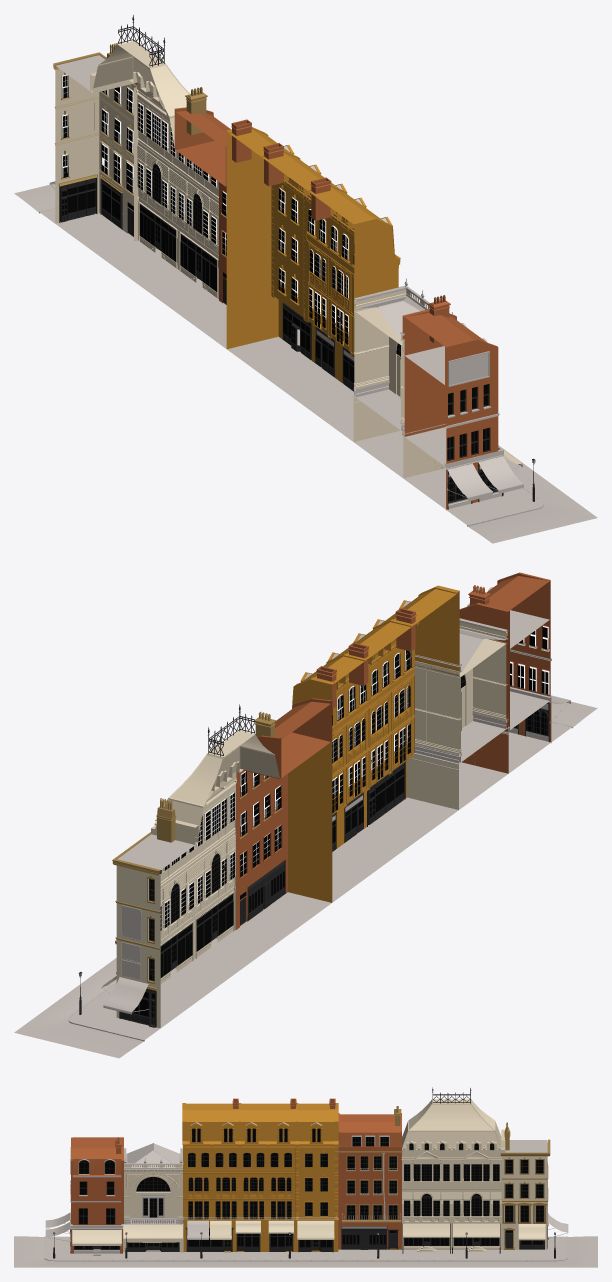
3 views of the same model, one above another, from view 1: azimuth 30°, elevation 25°; view 2: azimuth 150°, elevation 25°; view 3: azimuth 270°, elevation 25° (orthographic). The views are drawn at different scales.
Visible parts, largest first — view 1: cityBlock_06, cityBlock_06_Sidewalk, cityBlock_06_BLDG_E_Windows_Glass, cityBlock_06_Road, cityBlock_06_BLDG_C_Windows_Glass, cityBlock_06_BLDG_E_Roof, cityBlock_06_BLDG_F_Windows_Glass, cityBlock_06_BLDG_C_Chimney, cityBlock_06_BLDG_F_Frames, cityBlock_06_BLDG_E_Frames, cityBlock_06_BLDG_C_Frames, cityBlock_06_BLDG_A_Windows_Glass (+3 smaller); view 2: cityBlock_06, cityBlock_06_Sidewalk, cityBlock_06_Road, cityBlock_06_BLDG_C_Windows_Glass, cityBlock_06_BLDG_E_Windows_Glass, cityBlock_06_BLDG_E_Roof, cityBlock_06_BLDG_D_Windows_Glass, cityBlock_06_BLDG_C_Chimney, cityBlock_06_BLDG_C_Frames, cityBlock_06_BLDG_E_Frames, cityBlock_06_BLDG_F_Signs, cityBlock_06_BLDG_D_Frames (+5 smaller); view 3: cityBlock_06, cityBlock_06_Sidewalk, cityBlock_06_Road, cityBlock_06_BLDG_C_Windows_Glass, cityBlock_06_BLDG_C_Frames, cityBlock_06_BLDG_E_Roof, cityBlock_06_BLDG_E_Windows_Glass, cityBlock_06_BLDG_E_Frames, cityBlock_06_BLDG_D_Frames, cityBlock_06_BLDG_D_Windows_Glass, cityBlock_06_BLDG_F_Windows_Glass, cityBlock_06_BLDG_B_Awning (+9 smaller).
Boxes of the visible parts, <box> form: cityBlock_06: <box>49,43,535,509</box>; cityBlock_06_Sidewalk: <box>40,209,542,524</box>; cityBlock_06_BLDG_E_Windows_Glass: <box>138,103,216,291</box>; cityBlock_06_Road: <box>14,168,597,543</box>; cityBlock_06_BLDG_C_Windows_Glass: <box>278,188,354,382</box>; cityBlock_06_BLDG_E_Roof: <box>93,40,190,147</box>; cityBlock_06_BLDG_F_Windows_Glass: <box>62,75,133,220</box>; cityBlock_06_BLDG_C_Chimney: <box>231,119,331,220</box>; cityBlock_06_BLDG_F_Frames: <box>59,126,133,236</box>; cityBlock_06_BLDG_E_Frames: <box>139,120,218,291</box>; cityBlock_06_BLDG_C_Frames: <box>282,277,354,391</box>; cityBlock_06_BLDG_A_Windows_Glass: <box>447,384,496,501</box>; cityBlock_06: <box>78,572,570,1028</box>; cityBlock_06_Sidewalk: <box>69,722,572,1039</box>; cityBlock_06_Road: <box>14,701,597,1058</box>; cityBlock_06_BLDG_C_Windows_Glass: <box>332,650,411,843</box>; cityBlock_06_BLDG_E_Windows_Glass: <box>159,793,234,977</box>; cityBlock_06_BLDG_E_Roof: <box>166,730,279,837</box>; cityBlock_06_BLDG_D_Windows_Glass: <box>240,771,284,912</box>; cityBlock_06_BLDG_C_Chimney: <box>316,608,416,708</box>; cityBlock_06_BLDG_C_Frames: <box>332,665,410,851</box>; cityBlock_06_BLDG_E_Frames: <box>160,806,234,976</box>; cityBlock_06_BLDG_F_Signs: <box>121,905,141,980</box>; cityBlock_06_BLDG_D_Frames: <box>240,785,285,925</box>; cityBlock_06: <box>45,1103,568,1258</box>; cityBlock_06_Sidewalk: <box>45,1236,566,1260</box>; cityBlock_06_Road: <box>14,1236,597,1267</box>; cityBlock_06_BLDG_C_Windows_Glass: <box>188,1128,332,1247</box>; cityBlock_06_BLDG_C_Frames: <box>185,1129,333,1252</box>; cityBlock_06_BLDG_E_Roof: <box>402,1099,501,1149</box>; cityBlock_06_BLDG_E_Windows_Glass: <box>404,1143,499,1245</box>; cityBlock_06_BLDG_E_Frames: <box>404,1143,499,1246</box>; cityBlock_06_BLDG_D_Frames: <box>341,1137,398,1249</box>; cityBlock_06_BLDG_D_Windows_Glass: <box>342,1137,396,1244</box>; cityBlock_06_BLDG_F_Windows_Glass: <box>503,1160,545,1244</box>; cityBlock_06_BLDG_B_Awning: <box>123,1224,182,1242</box>.
Size of the model in its own units: 59.51 by 136 by 467.
